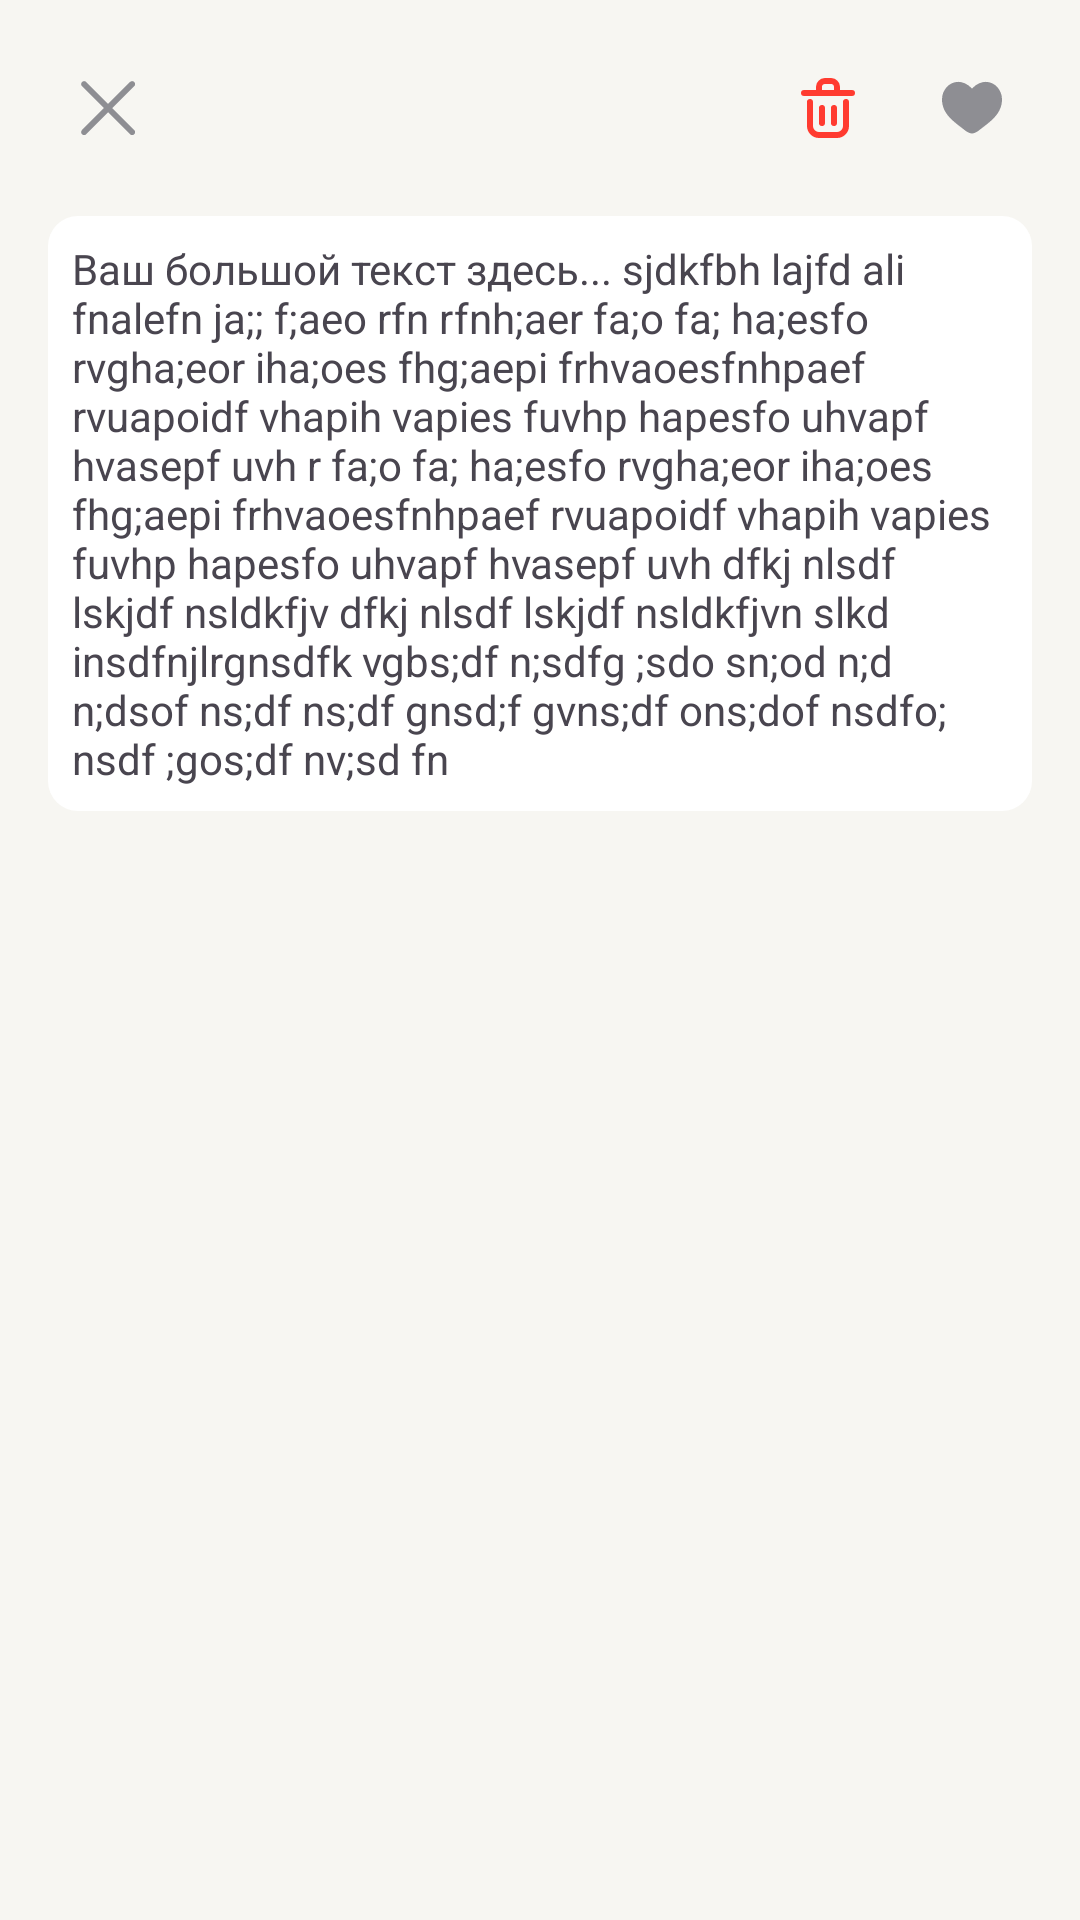

Icons on this 1080px×1920px Android screen, each with its box as (x1, y1, x2, y2):
close: (81, 81, 135, 135)
delete: (801, 78, 855, 138)
favorite: (942, 82, 1002, 134)
